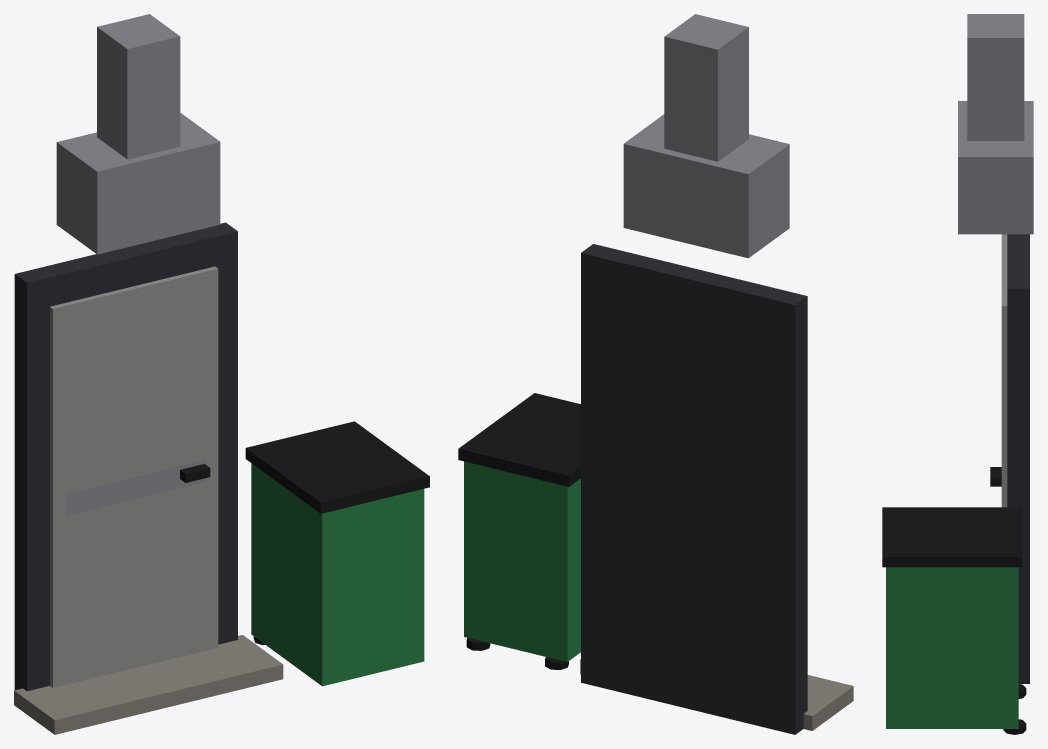
The model's file is prop_side-door.226b29b1cfaf.glb.
3 views of the same model, side by side, from view 1: azimuth 30°, elevation 25°; view 2: azimuth 150°, elevation 25°; view 3: azimuth 270°, elevation 25° (orthographic). The views are drawn at different scales.
Parts seen in each view (by area): view 1: body; view 2: body; view 3: body.
Boxes of the visible parts, x1,y1,x2,y2 form: body: (14,14,429,734); body: (458,14,853,734); body: (882,14,1033,734).
Size of the model in its own units: 1.96 by 3.55 by 0.8.
